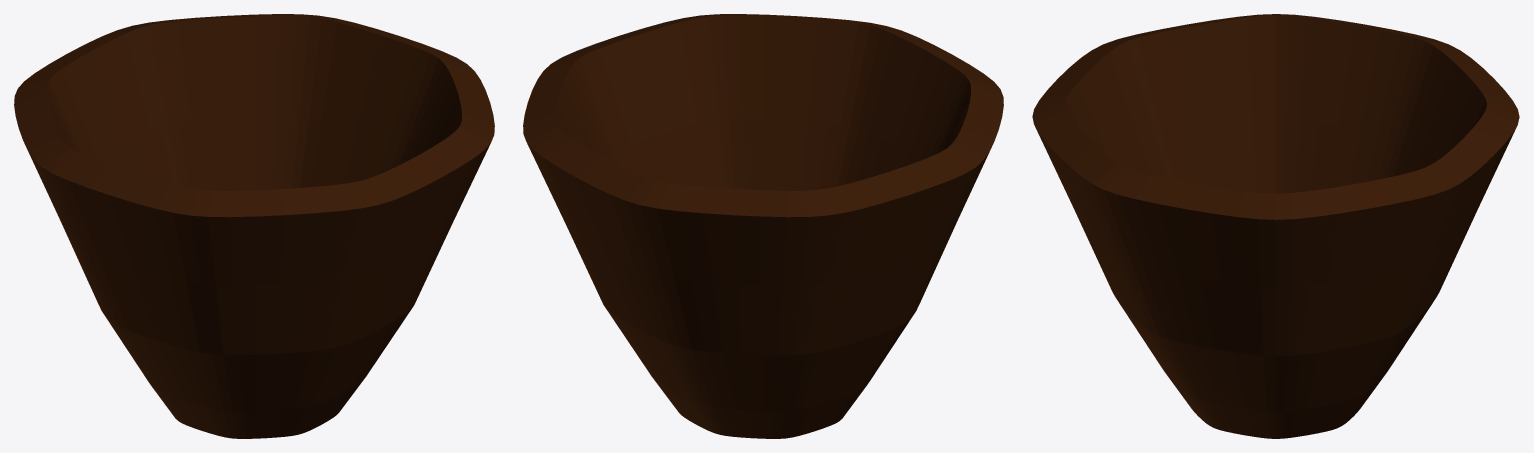
File: Coffee_filter.fbx
3 views of the same model, side by side, from view 1: azimuth 30°, elevation 25°; view 2: azimuth 150°, elevation 25°; view 3: azimuth 270°, elevation 25° (orthographic).
Parts seen in each view (by area): view 1: Coffee_filter; view 2: Coffee_filter; view 3: Coffee_filter.
Boxes of the visible parts, <box> form: Coffee_filter: <box>14,14,494,438</box>; Coffee_filter: <box>523,14,1003,438</box>; Coffee_filter: <box>1032,14,1519,438</box>.
Bounding box in the file's own units: 13.83 × 9.32 × 13.83.
